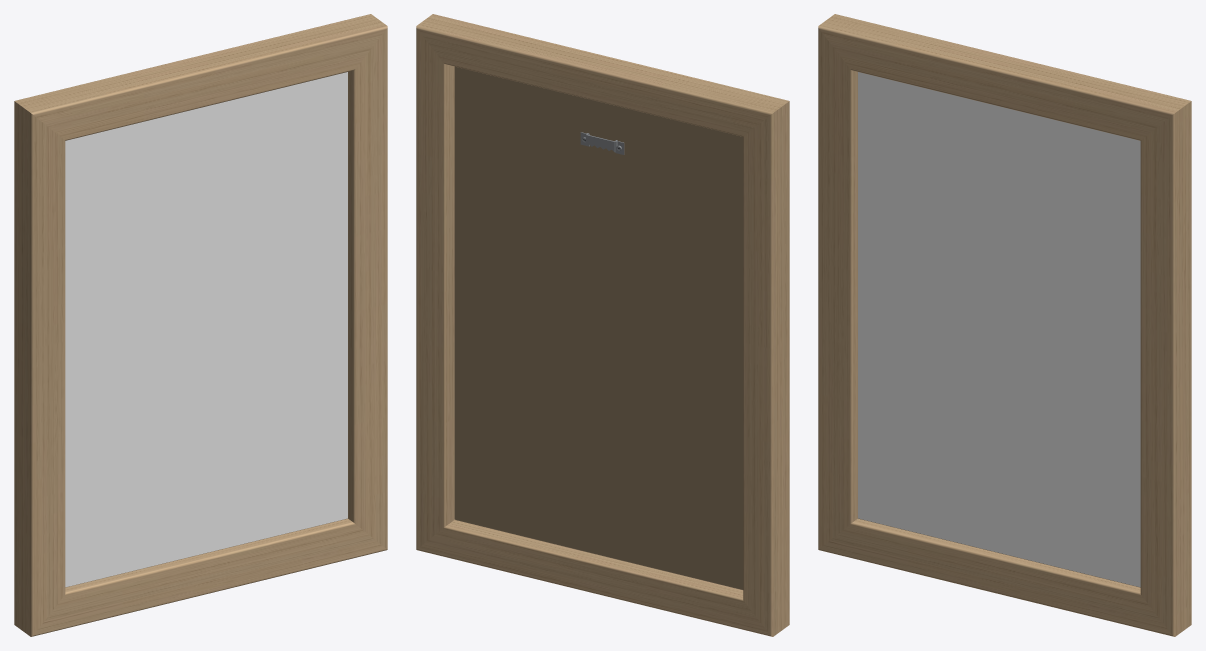
The model's file is oak_frame_portrait.glb.
3 renders of one model, left to right at view 1: azimuth 30°, elevation 25°; view 2: azimuth 150°, elevation 25°; view 3: azimuth 330°, elevation 25°, orthographic.
Parts seen in each view (by area): view 1: Photo_Surface, Frame_Body; view 2: Back_Panel, Frame_Body; view 3: Photo_Surface, Frame_Body.
Part boxes in pixels (x1,y1,x2,y2): Photo_Surface: (65,72,347,587); Frame_Body: (14,14,387,636); Back_Panel: (454,66,743,589); Frame_Body: (416,14,789,636); Photo_Surface: (858,72,1140,587); Frame_Body: (818,14,1191,636).
Size of the model in its own units: 0.248 by 0.348 by 0.022.
Materials: 5 (1 with a texture image).
